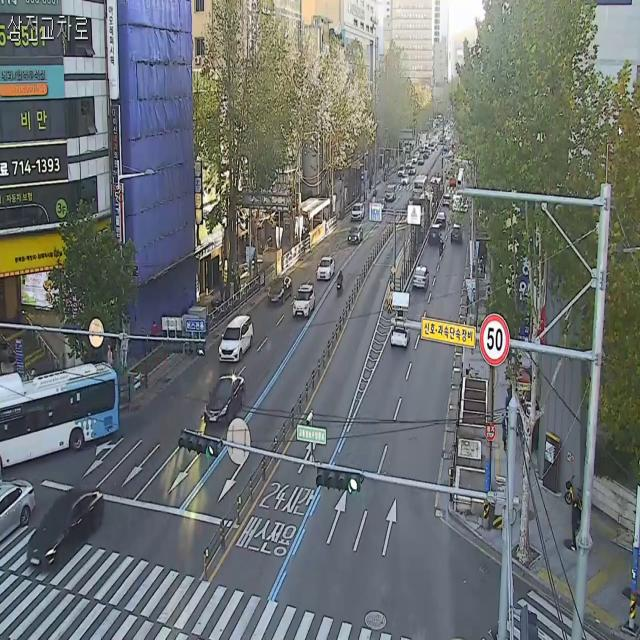bus: (333, 264, 349, 299)
car: (0, 348, 130, 472)
motorcycle: (22, 473, 116, 589), (200, 368, 249, 432), (218, 307, 255, 364), (288, 278, 318, 328), (406, 260, 438, 298)
